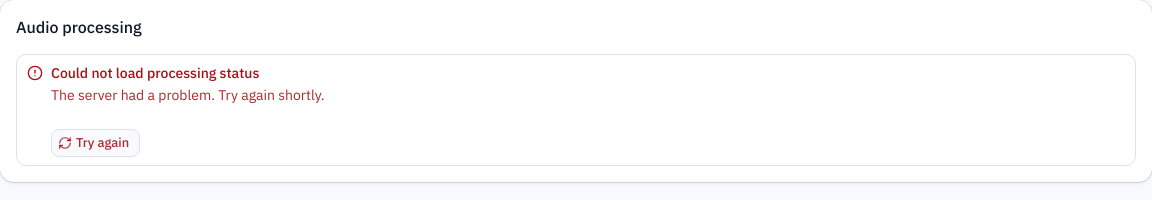
Test: ProcessingCard states › shows an error with retry when the first load fails
The image size is (1152, 200).
Expected: the message shows "The server had a problem", [51,86,325,104]
Step 1. Click the button "Try again" → x=96, y=143, box [51,129,140,157]
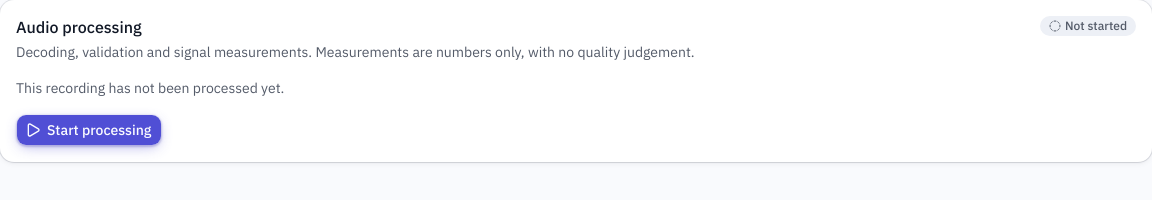
Expected: the text "Not started" is shown, [1040,16,1136,36]
